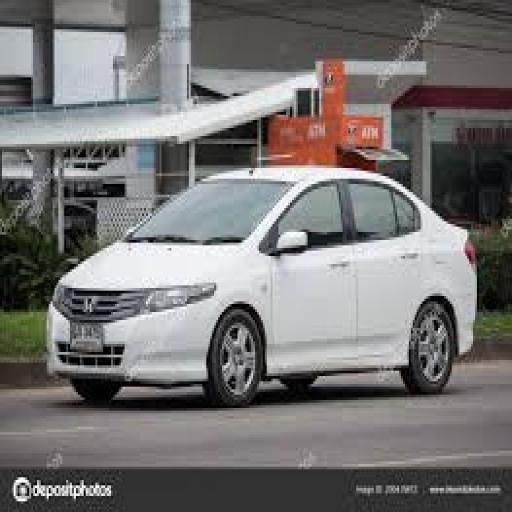License: (65, 318, 118, 352)
